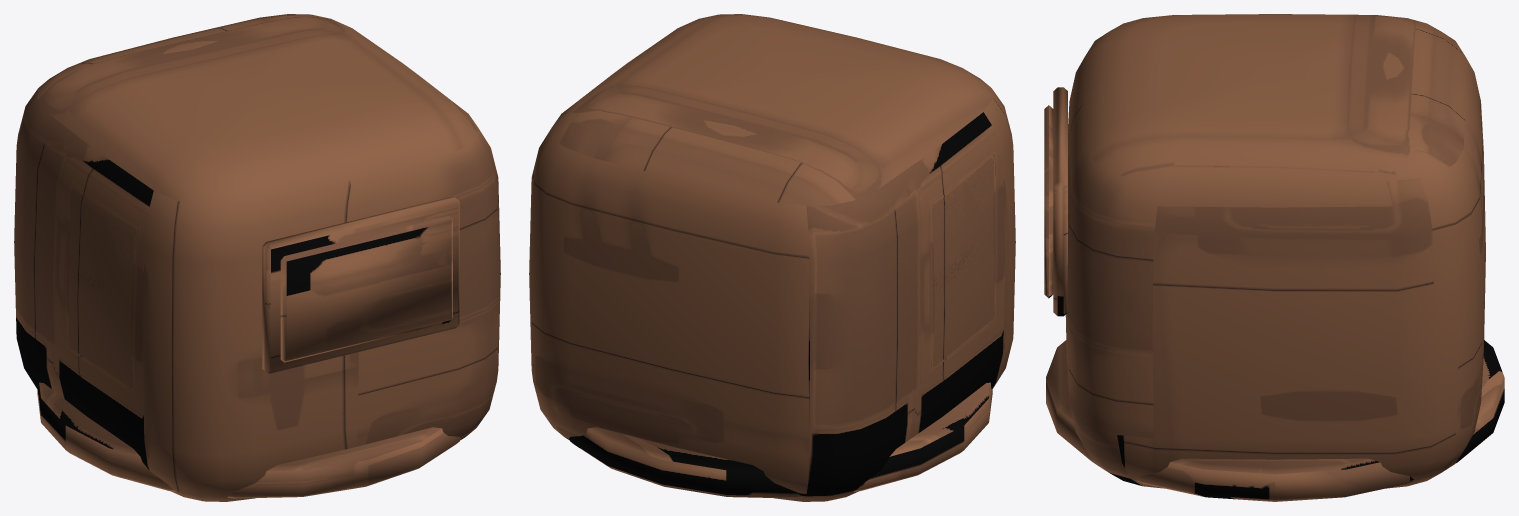
Rendered from Remache_AntebrazoIzq.fbx.
3 renders of one model, left to right at view 1: azimuth 30°, elevation 25°; view 2: azimuth 150°, elevation 25°; view 3: azimuth 270°, elevation 25°, orthographic. The views are drawn at different scales.
Visible parts, largest first — view 1: Remache_AntebrazoIzq; view 2: Remache_AntebrazoIzq; view 3: Remache_AntebrazoIzq.
Boxes of the visible parts, left/top/right/bottom form: Remache_AntebrazoIzq: left=14, top=14, right=500, bottom=501; Remache_AntebrazoIzq: left=529, top=14, right=1015, bottom=501; Remache_AntebrazoIzq: left=1044, top=14, right=1504, bottom=501.
Size of the model in its own units: 2.21 by 1.93 by 2.22.
